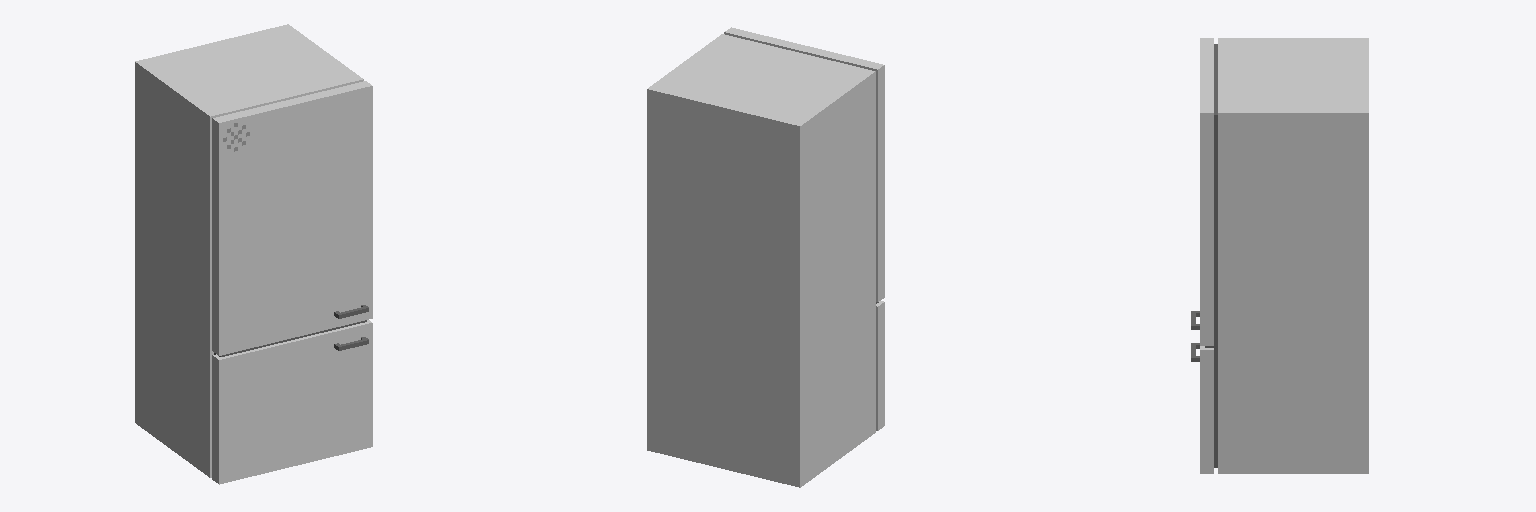
The picture shows the model from 3 angles: view 1: azimuth 30°, elevation 25°; view 2: azimuth 150°, elevation 25°; view 3: azimuth 270°, elevation 25°; orthographic projection.
Visible parts, largest first — view 1: fridge; view 2: fridge; view 3: fridge.
Part boxes in pixels (x1,y1,x2,y2): fridge: (135,24,372,484); fridge: (647,27,884,487); fridge: (1191,38,1368,473).
Bounding box in the file's own units: 4 × 9 × 4.
1 materials, 1 textured.